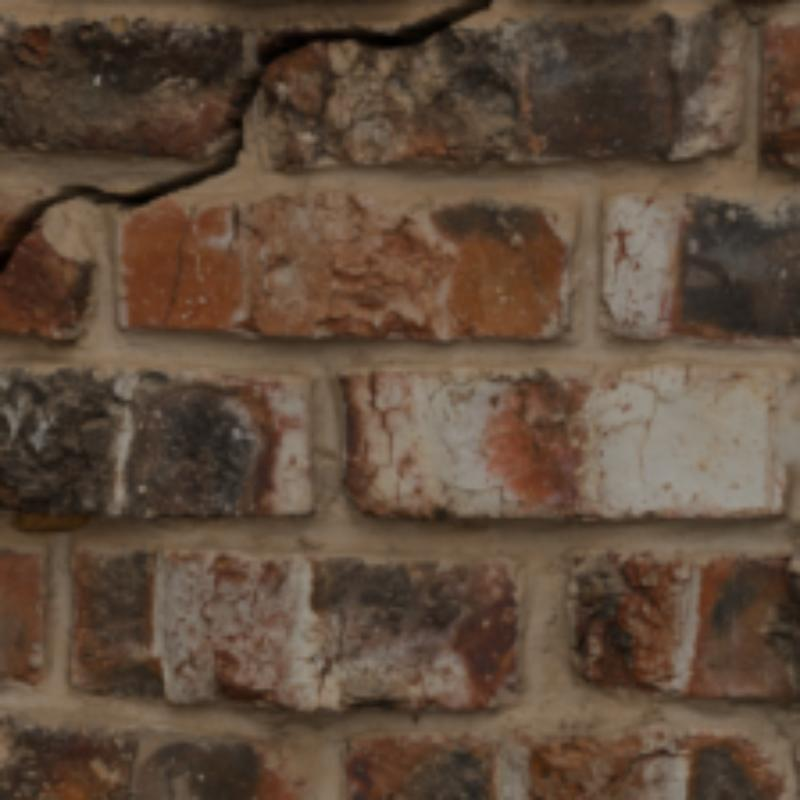crack: (2, 2, 491, 274)
